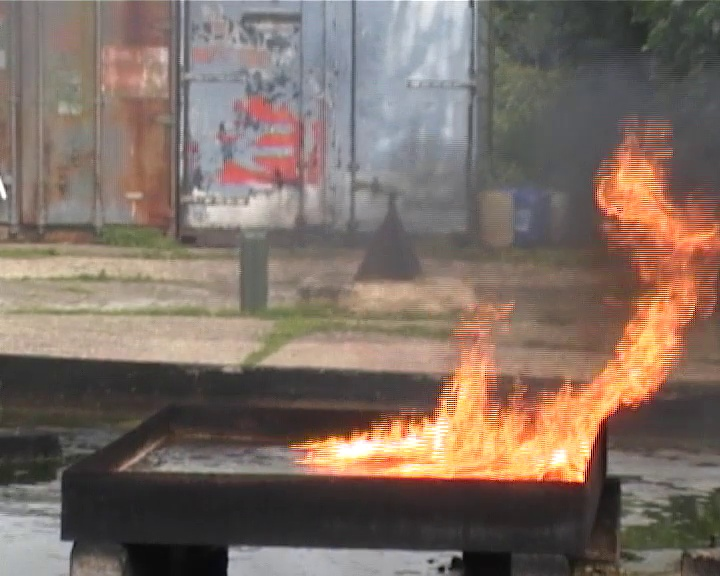fire: (296, 307, 595, 479), (595, 121, 720, 423)
